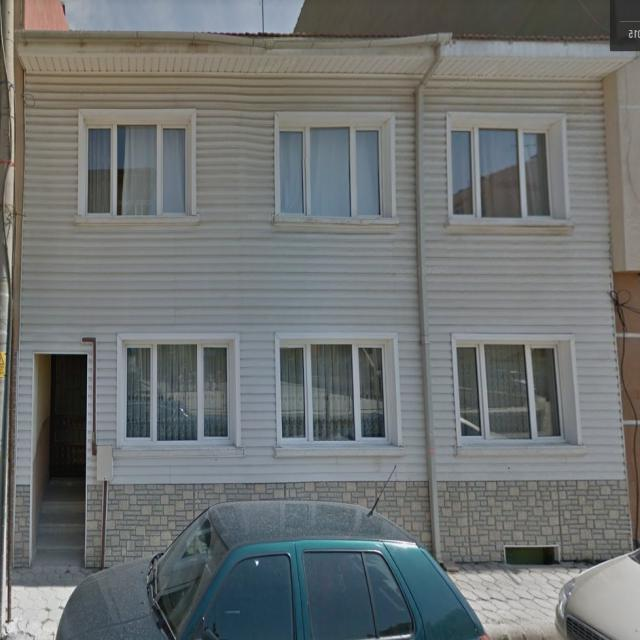Building: (10, 30, 640, 570)
